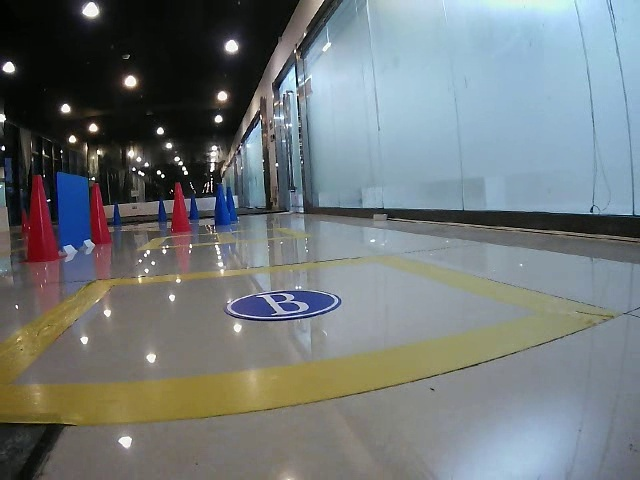B: (225, 287, 339, 320)
